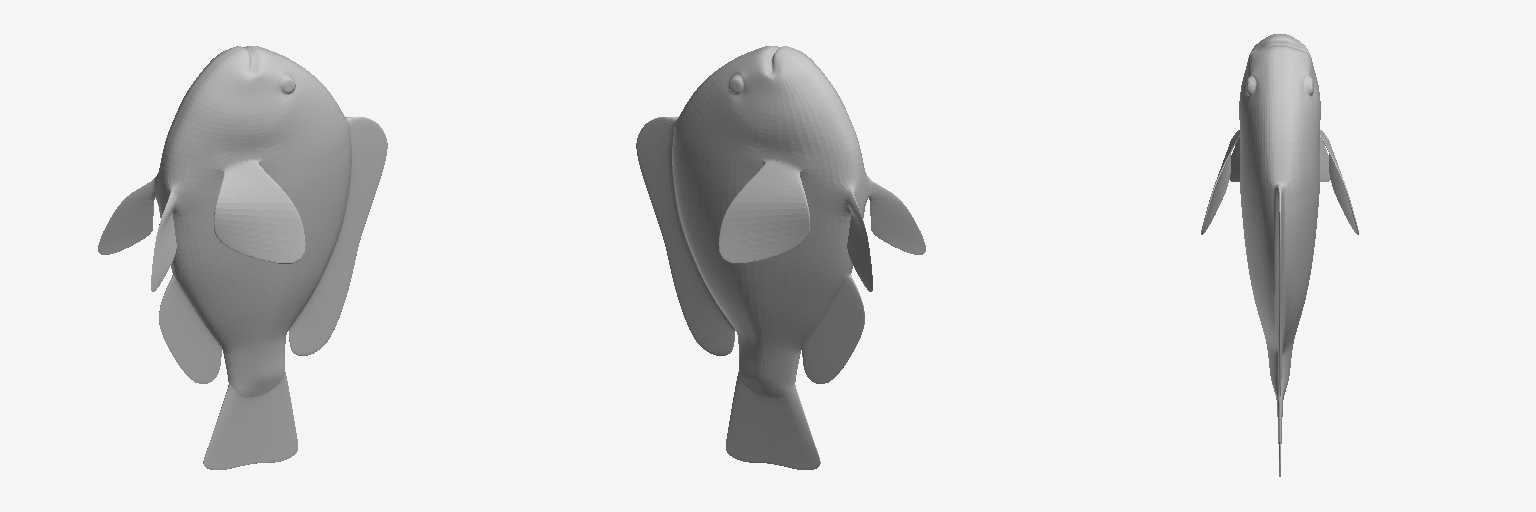
Rendered from fisi1.obj.
3 renders of one model, left to right at view 1: azimuth 30°, elevation 25°; view 2: azimuth 150°, elevation 25°; view 3: azimuth 270°, elevation 25°, orthographic.
Visible parts, largest first — view 1: 12265_Fish_v1_L2; view 2: 12265_Fish_v1_L2; view 3: 12265_Fish_v1_L2.
Part boxes in pixels (x1,y1,x2,y2): 12265_Fish_v1_L2: (98,46,387,469); 12265_Fish_v1_L2: (636,46,925,469); 12265_Fish_v1_L2: (1201,34,1358,476).
Size of the model in its own units: 2.24 by 3.44 by 1.16.